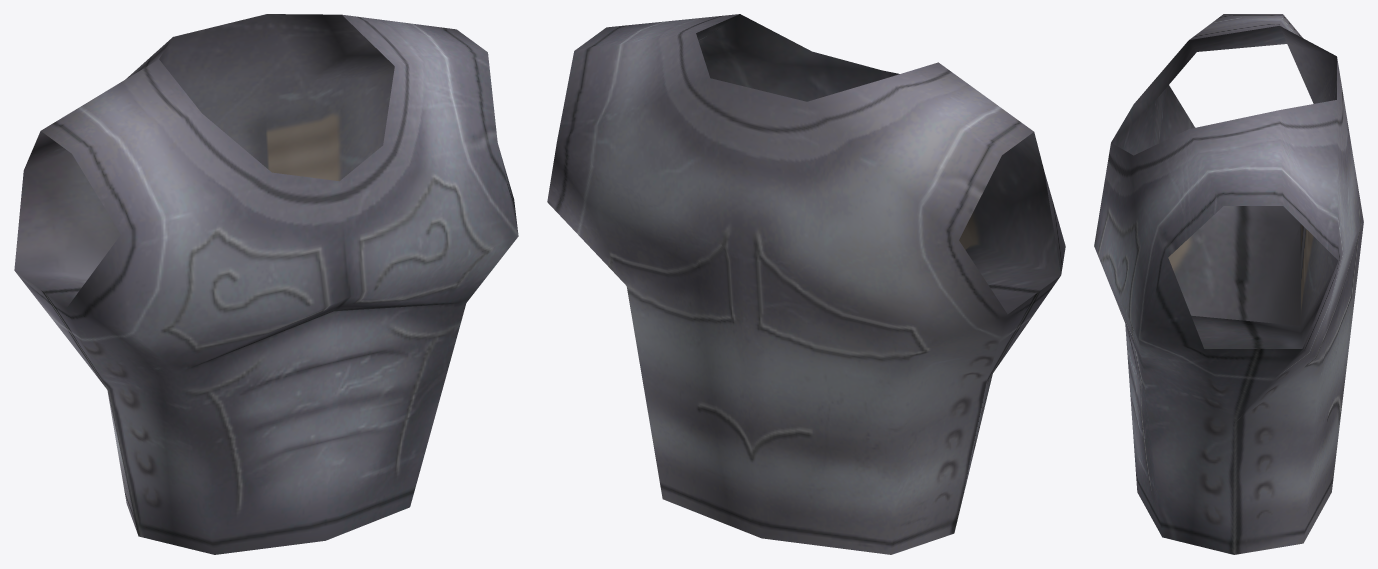
File: armor.glb
The picture shows the model from 3 angles, left to right: view 1: azimuth 30°, elevation 25°; view 2: azimuth 150°, elevation 25°; view 3: azimuth 270°, elevation 25°; orthographic projection. The views are drawn at different scales.
Visible parts, largest first — view 1: armor_2.001_Plane.008; view 2: armor_2.001_Plane.008; view 3: armor_2.001_Plane.008.
Part boxes in pixels (x1,y1,x2,y2): armor_2.001_Plane.008: (14, 14, 518, 554); armor_2.001_Plane.008: (547, 14, 1065, 554); armor_2.001_Plane.008: (1094, 14, 1363, 554).
Bounding box in the file's own units: 1.37 × 1.31 × 0.7552.
1 material, 1 textured.
